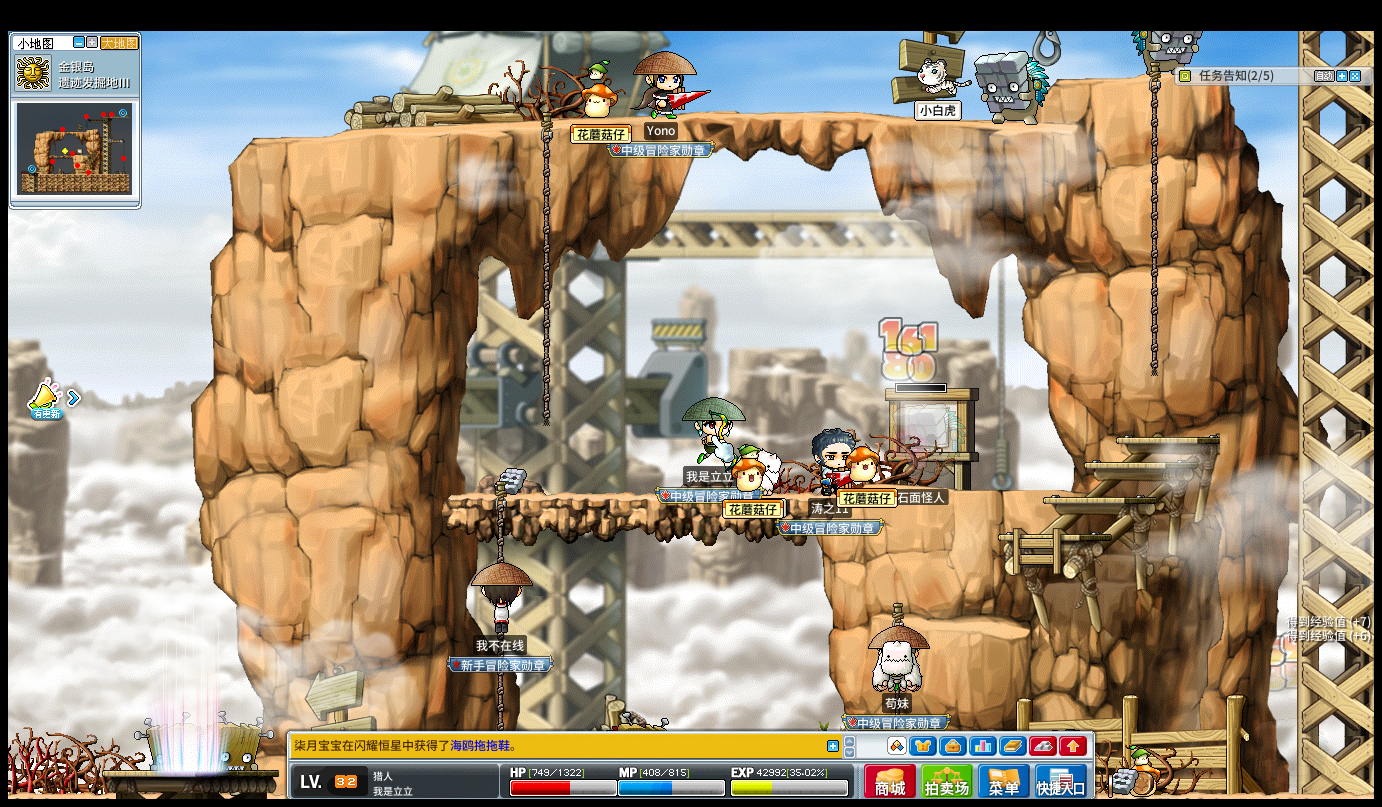floor: (239, 108, 1091, 142), (446, 492, 823, 503), (924, 617, 1029, 638), (1058, 73, 1170, 87), (1114, 434, 1220, 447), (938, 487, 1076, 496), (1099, 435, 1223, 445), (998, 532, 1110, 541), (1078, 460, 1199, 468), (1040, 496, 1156, 504)
monster: (975, 49, 1048, 126), (901, 403, 963, 453), (212, 716, 267, 771)
rope: (1146, 57, 1160, 379), (539, 115, 550, 429), (492, 485, 506, 561), (494, 671, 504, 725)
